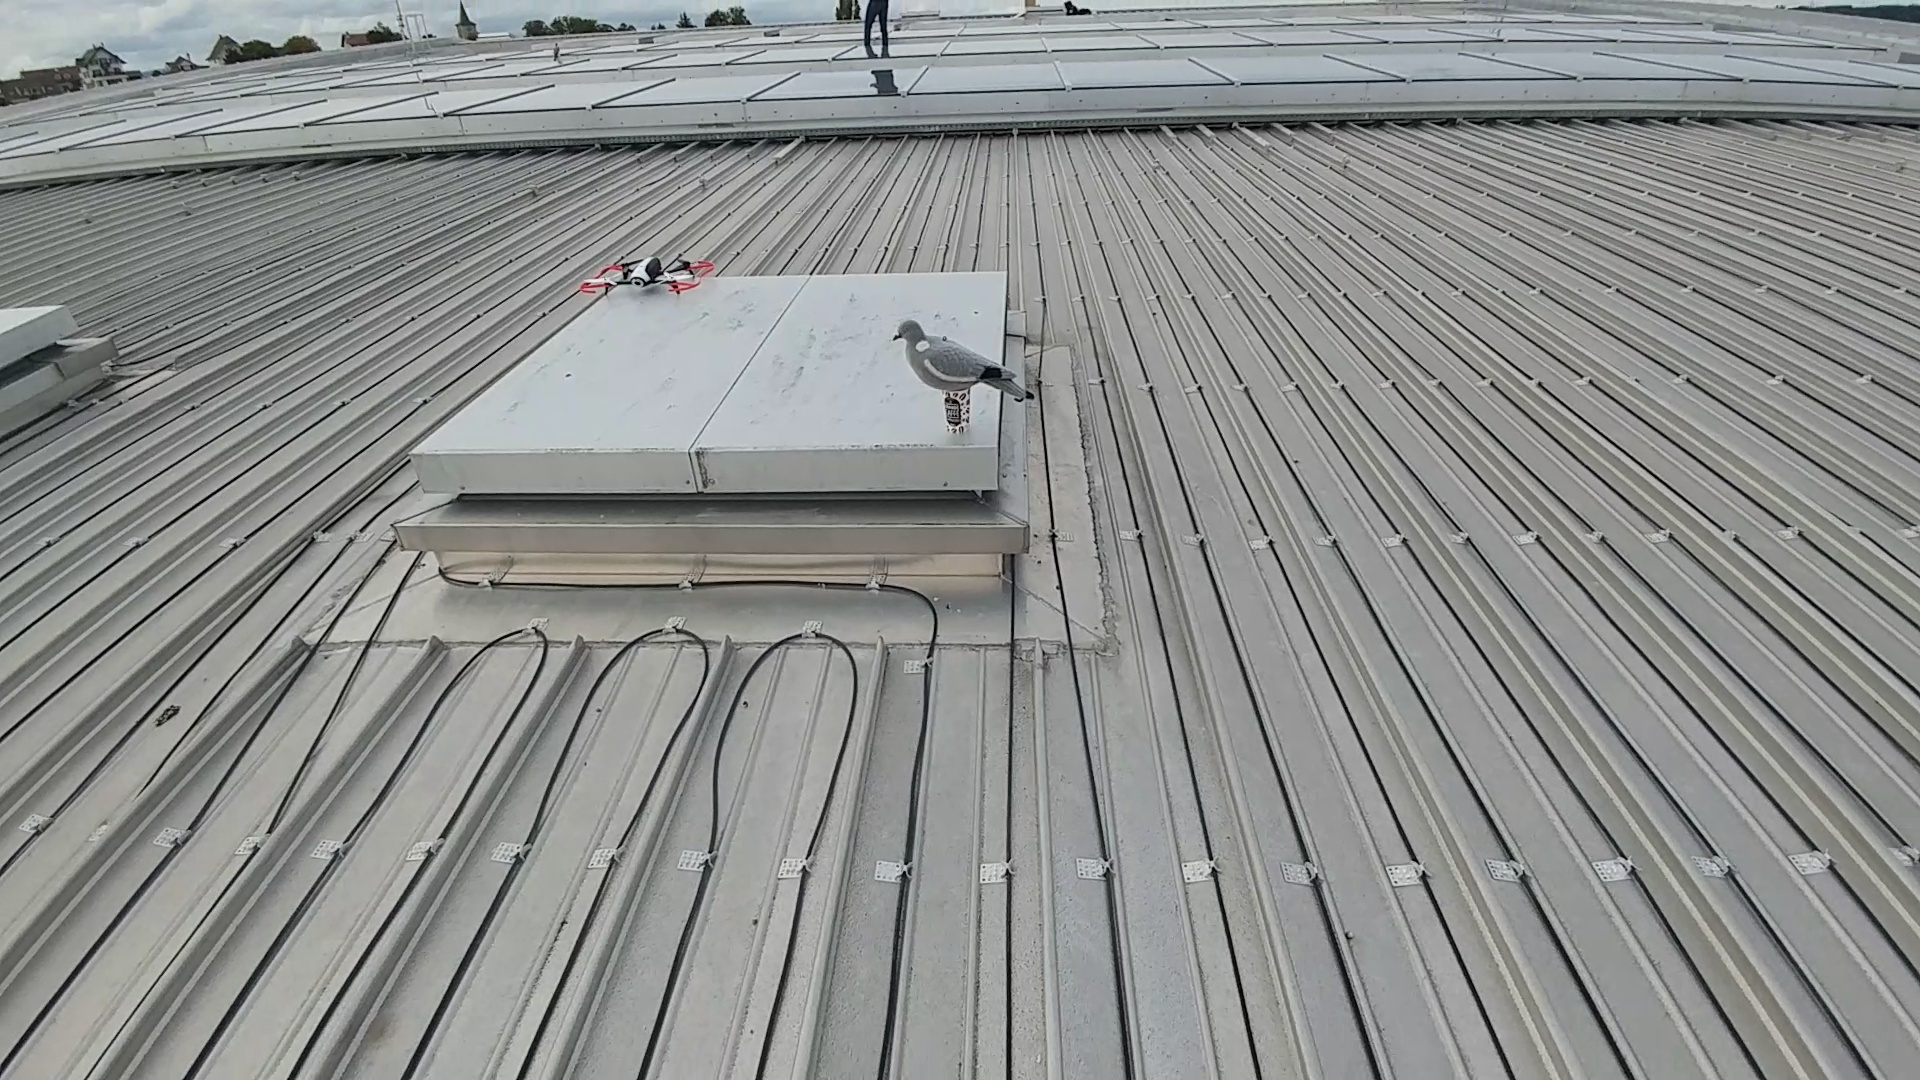Pigeon: (876, 315, 1029, 393)
